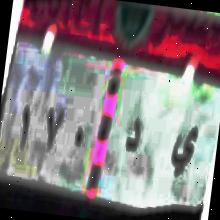0: (68, 118, 88, 162)
1: (15, 98, 35, 156)
7: (40, 101, 66, 159)
daal: (119, 107, 144, 164)
yaa: (166, 112, 200, 187)
